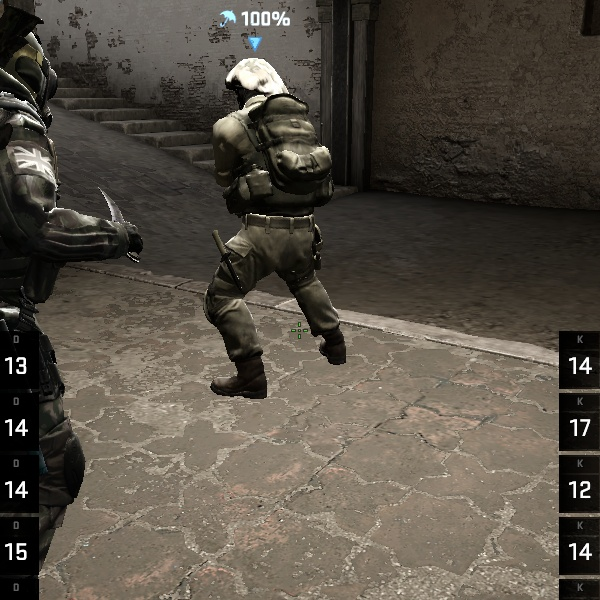ct_body: (179, 50, 379, 400)
ct_head: (219, 56, 286, 119)
